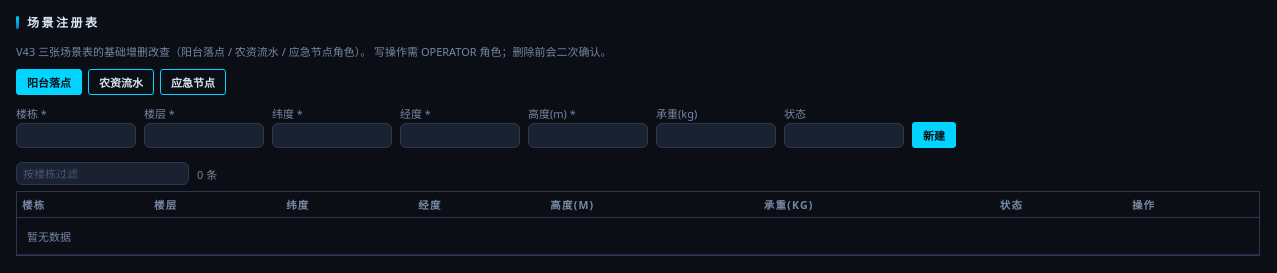
it: ScenarioRegistryPanel（V43 三表管理） › 切换页签会重新加载对应表，不复用上一张表的数据
The image size is (1277, 273).
Click the button "应急节点" at (193, 82), box [160,69,226,95]
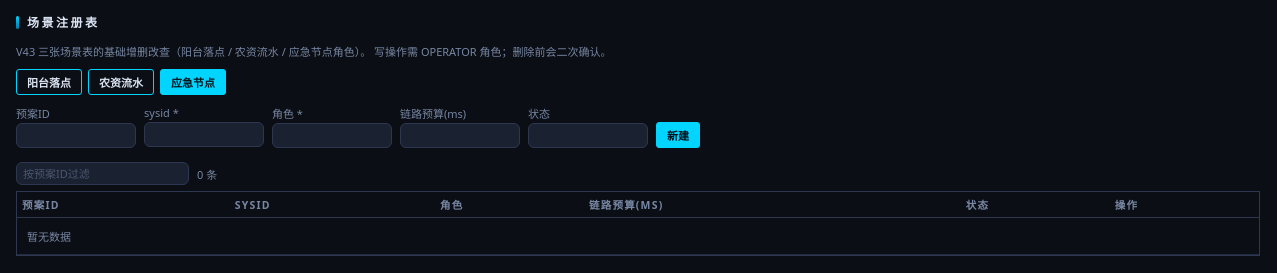
Check: the field with placeholder "按预案ID过滤" is shown, box [16,162,189,185]
